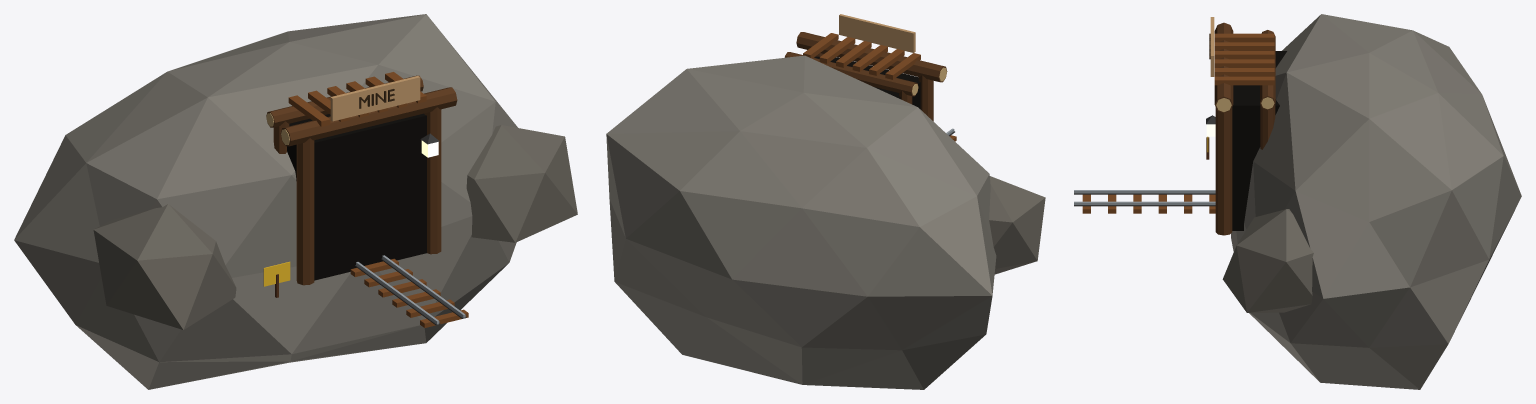
The model's file is Mining_MineEntrance.fbx.
3 views of the same model, side by side, from view 1: azimuth 30°, elevation 25°; view 2: azimuth 150°, elevation 25°; view 3: azimuth 270°, elevation 25° (orthographic). The views are drawn at different scales.
Visible parts, largest first — view 1: Mining_MineEntrance; view 2: Mining_MineEntrance; view 3: Mining_MineEntrance.
Boxes of the visible parts, x1,y1,x2,y2 form: Mining_MineEntrance: (14,14,577,389); Mining_MineEntrance: (606,14,1045,389); Mining_MineEntrance: (1074,14,1521,389).
Bounding box in the file's own units: 10.93 × 7.38 × 9.71.
